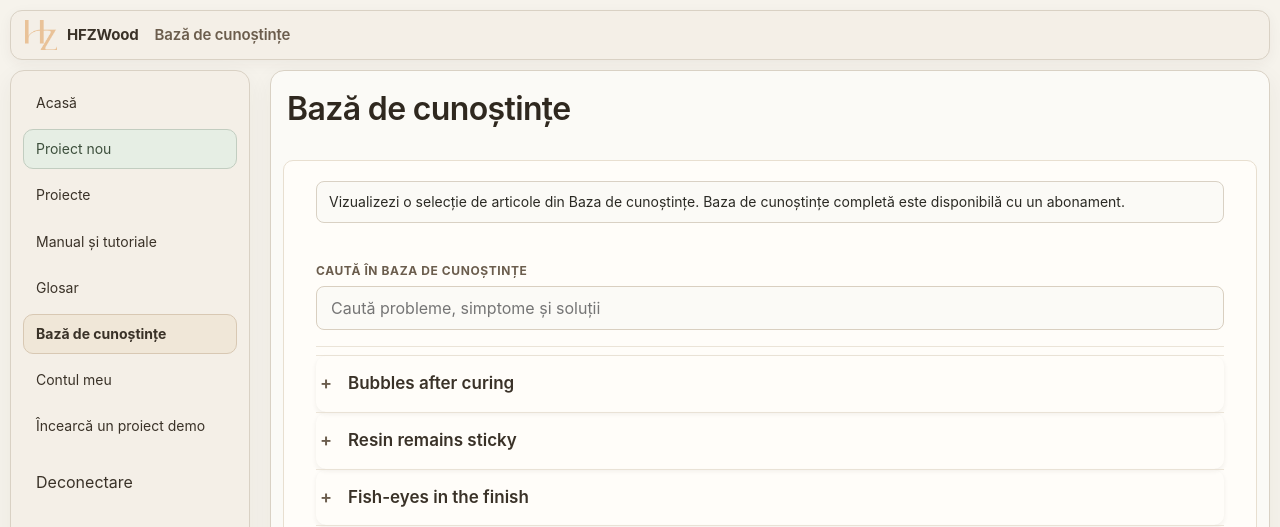
Knowledge Base public UI localization › renders Romanian Knowledge Base structural labels
Expected: the search field with placeholder "Caută probleme, simptome și soluții" is shown, [316, 286, 1224, 330]
Click the button "+ Resin remains sticky".
click(432, 440)  # box [316, 413, 1224, 469]
(page scrolled)
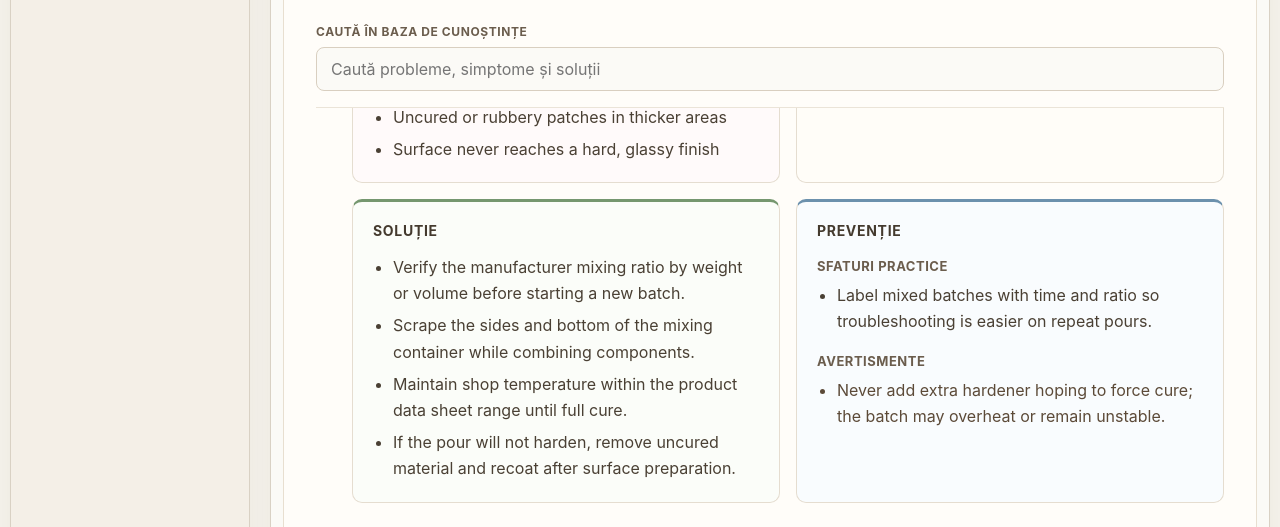
Now the heading "Simptome" is shown, box [373, 22, 448, 38]
Now the heading "Soluție" is shown, box [373, 222, 438, 239]
Now the heading "Sfaturi practice" is shown, box [817, 258, 948, 274]
